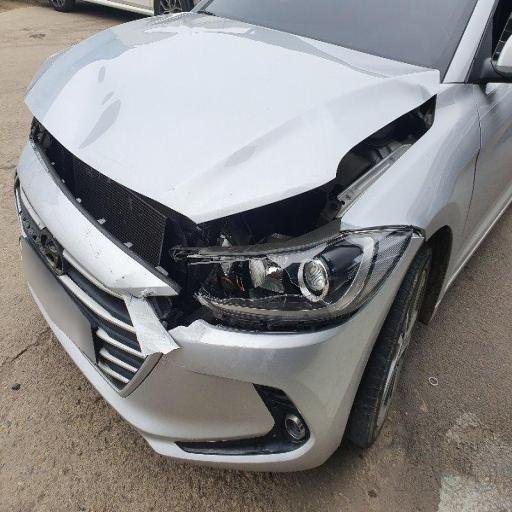broken: (118, 100, 394, 451)
